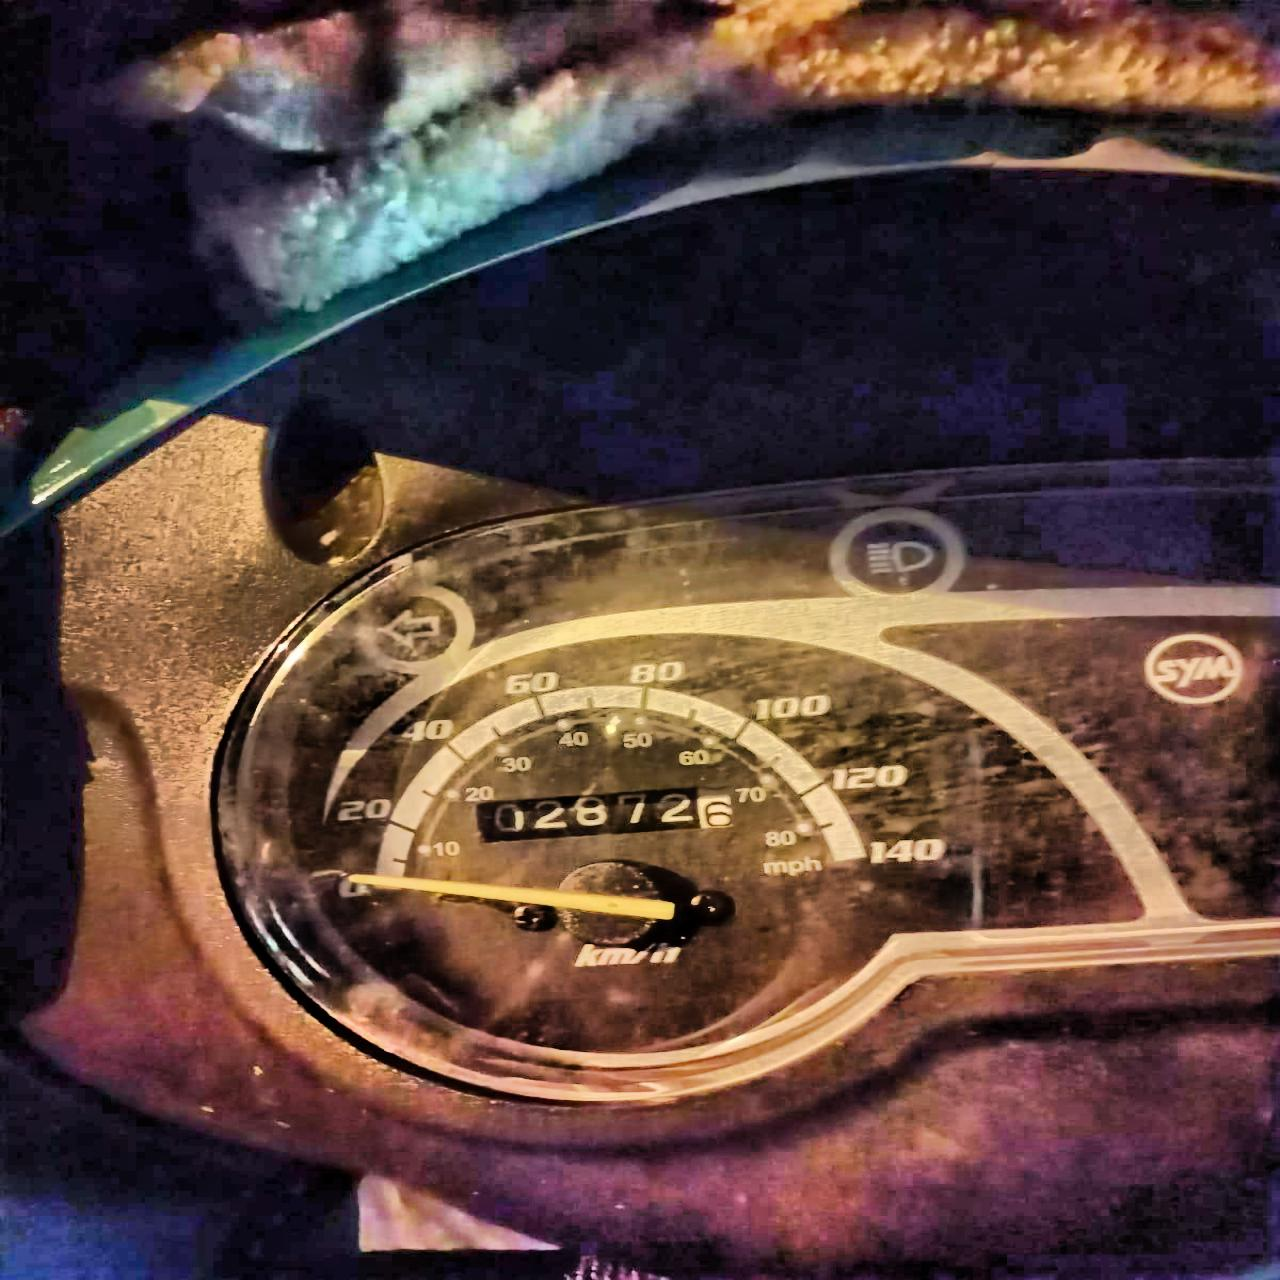0: (495, 801, 526, 836), (478, 784, 493, 802)
2: (658, 792, 696, 825), (530, 799, 568, 830)
6: (701, 799, 735, 833)
7: (617, 791, 651, 825)
8: (574, 795, 608, 828)
odometer: (476, 779, 740, 846)
